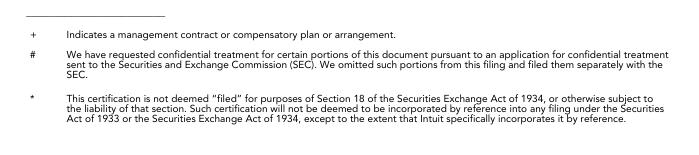table: (28, 29, 667, 123)
table column: (50, 29, 667, 123), (28, 29, 50, 123)
table row: (28, 44, 667, 86), (28, 86, 667, 123), (28, 29, 667, 44)
